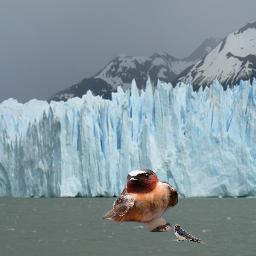Swallow: (102, 169, 178, 232), (174, 224, 210, 245)
